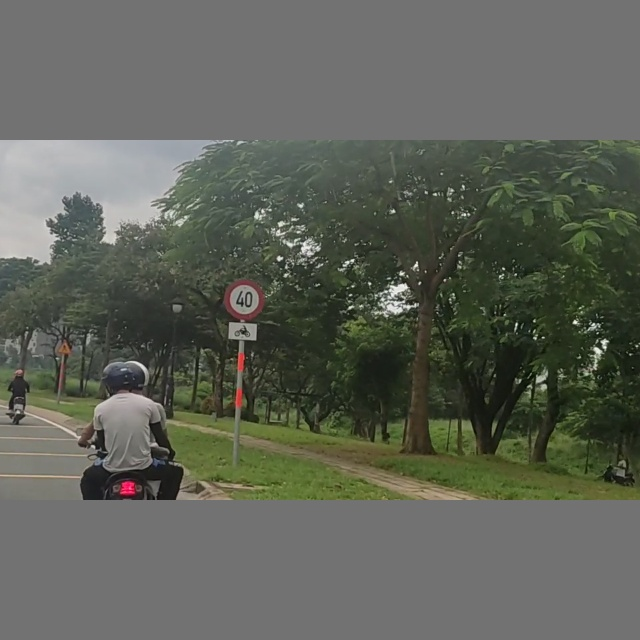P.127*40: (224, 279, 267, 321), (57, 339, 73, 354)
